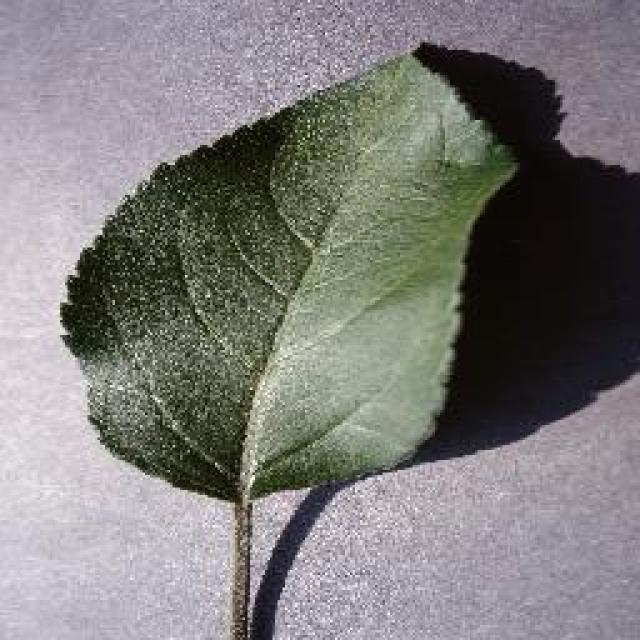Apple___healthy: (45, 30, 523, 640)
